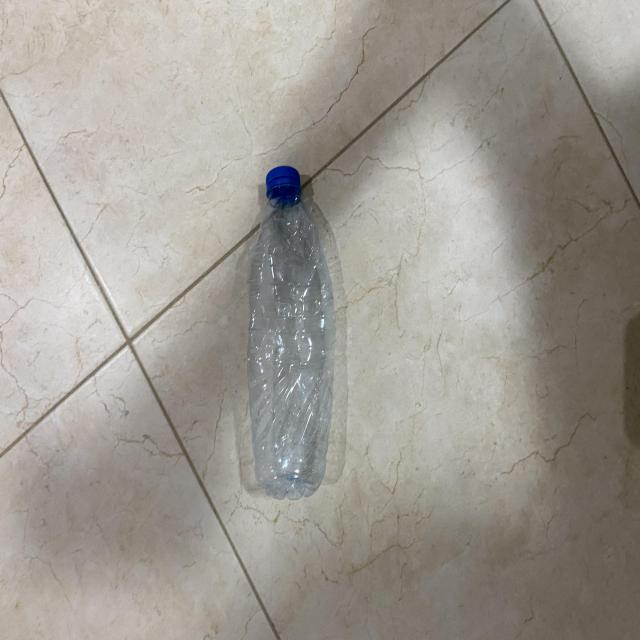plastic: (244, 162, 334, 498)
